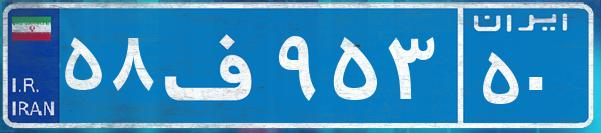0: (525, 38, 570, 115)
3: (385, 28, 445, 110)
5: (330, 28, 385, 110), (57, 26, 110, 107), (475, 38, 525, 113)
8: (110, 28, 158, 105)
9: (273, 28, 330, 110)
ف: (158, 15, 273, 115)
